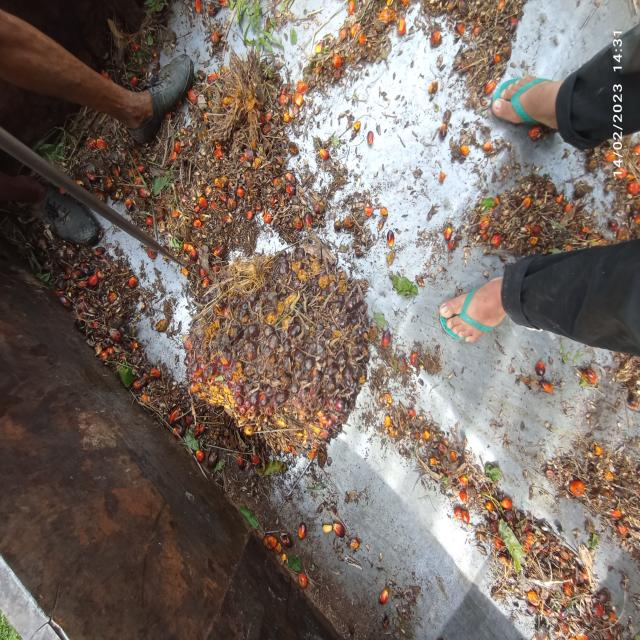fraksi 00: (178, 243, 376, 457)
